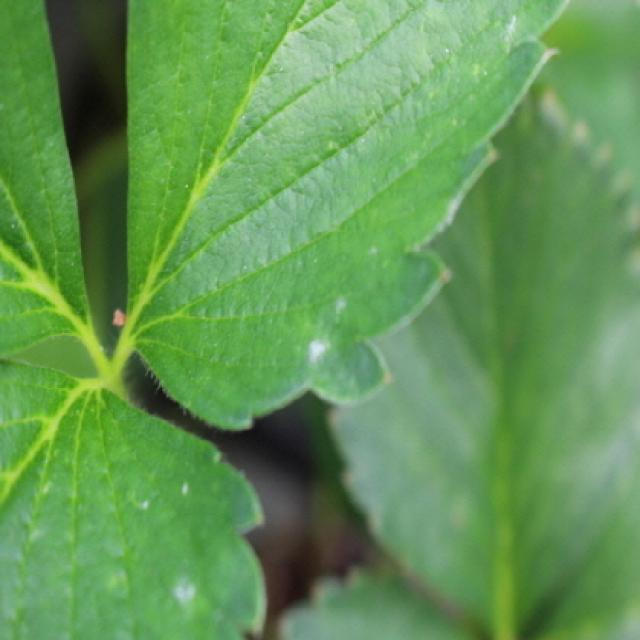powdery_mildew_leaf: (124, 0, 574, 430), (0, 356, 266, 638)
